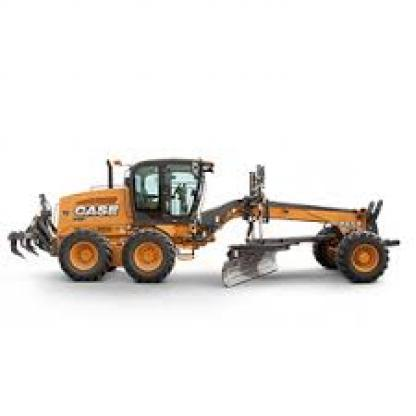bull_dozer/loader/grader: (13, 135, 407, 307)
